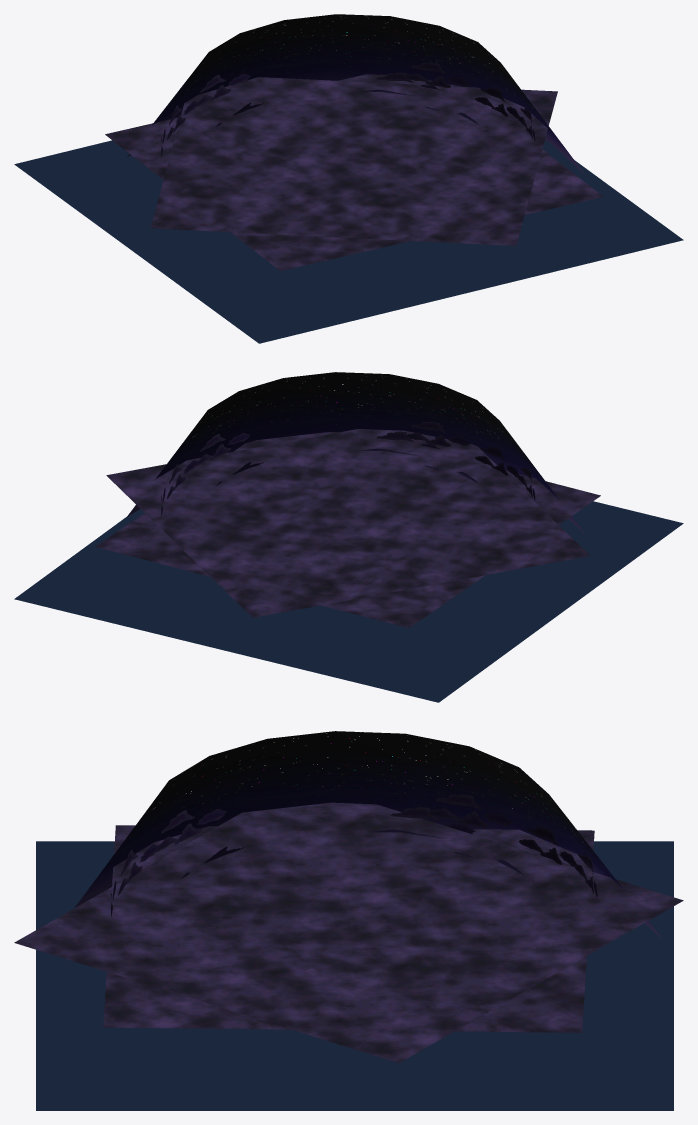
The model's file is RM_SKYBOX_NEW.fbx.
3 views of the same model, one above another, from view 1: azimuth 30°, elevation 25°; view 2: azimuth 150°, elevation 25°; view 3: azimuth 270°, elevation 25° (orthographic). The views are drawn at different scales.
Visible parts, largest first — view 1: RM_SKYBOX_NEW; view 2: RM_SKYBOX_NEW; view 3: RM_SKYBOX_NEW.
Part boxes in pixels (x1,y1,x2,y2): RM_SKYBOX_NEW: (14, 14, 683, 343); RM_SKYBOX_NEW: (14, 372, 683, 702); RM_SKYBOX_NEW: (14, 731, 683, 1110).
Size of the model in its own units: 929489 by 253546 by 929489.
Materials: 22 (22 with a texture image).
